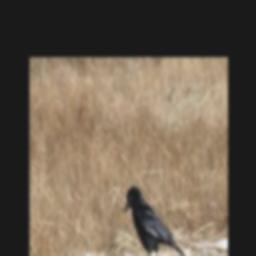Crow: (124, 184, 187, 256)
